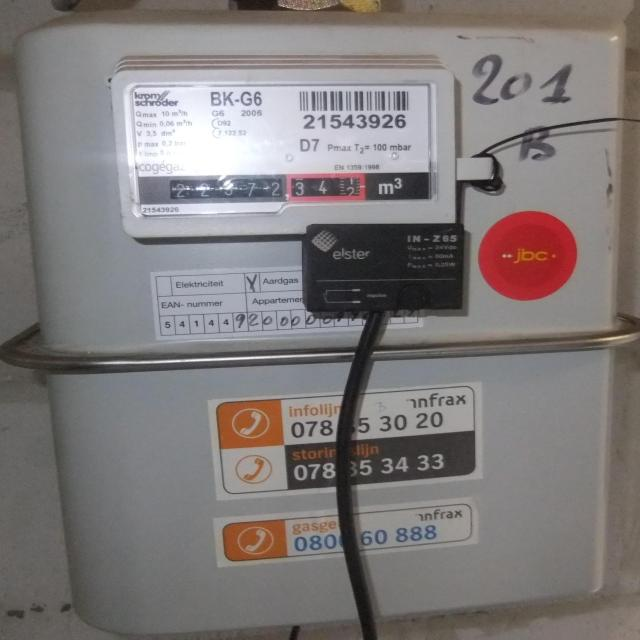gaz_meter: (122, 84, 439, 202)
indication: (137, 174, 366, 205)
